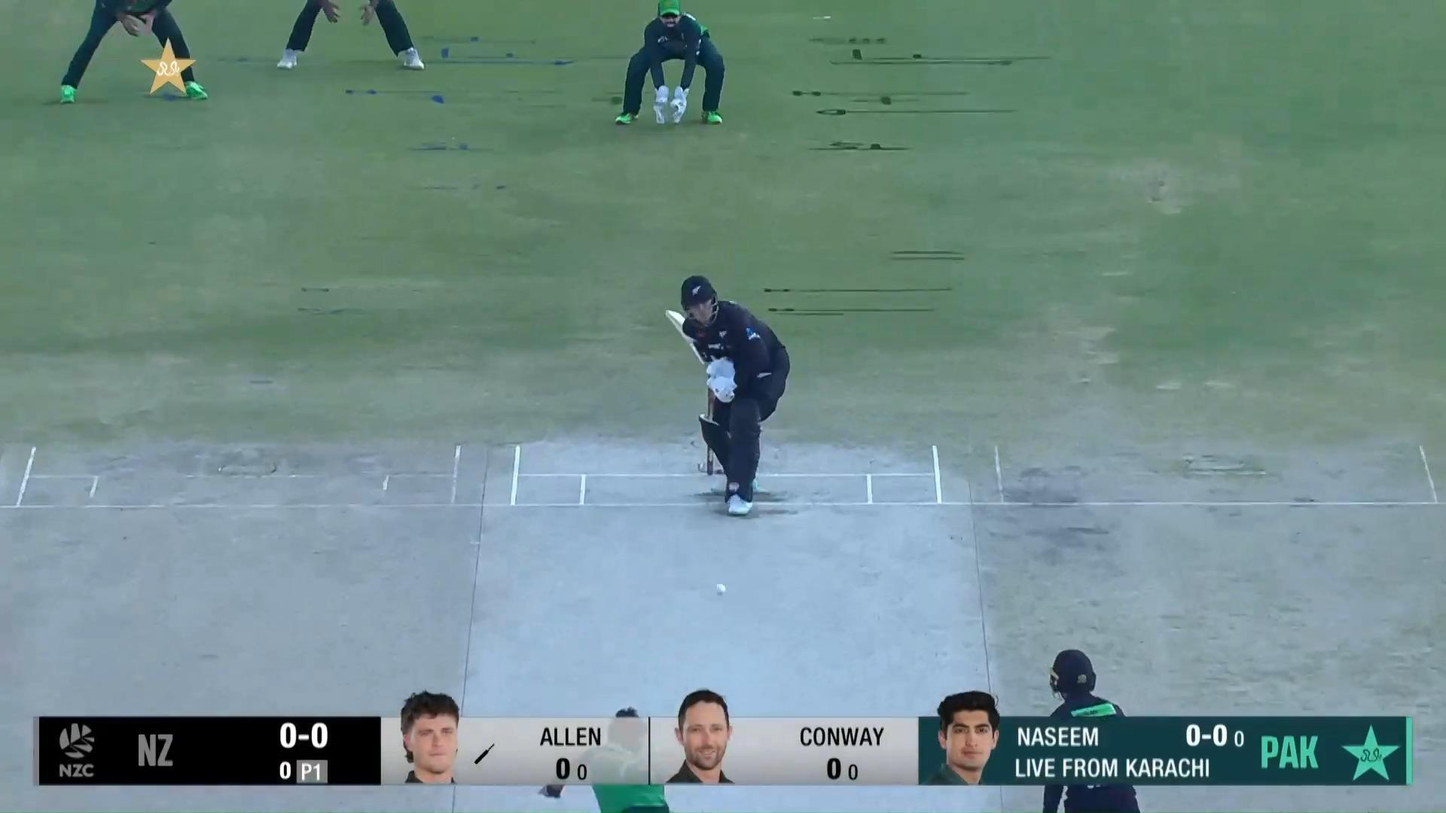BM 1: (662, 274, 791, 518)
BO: (536, 704, 675, 813)
